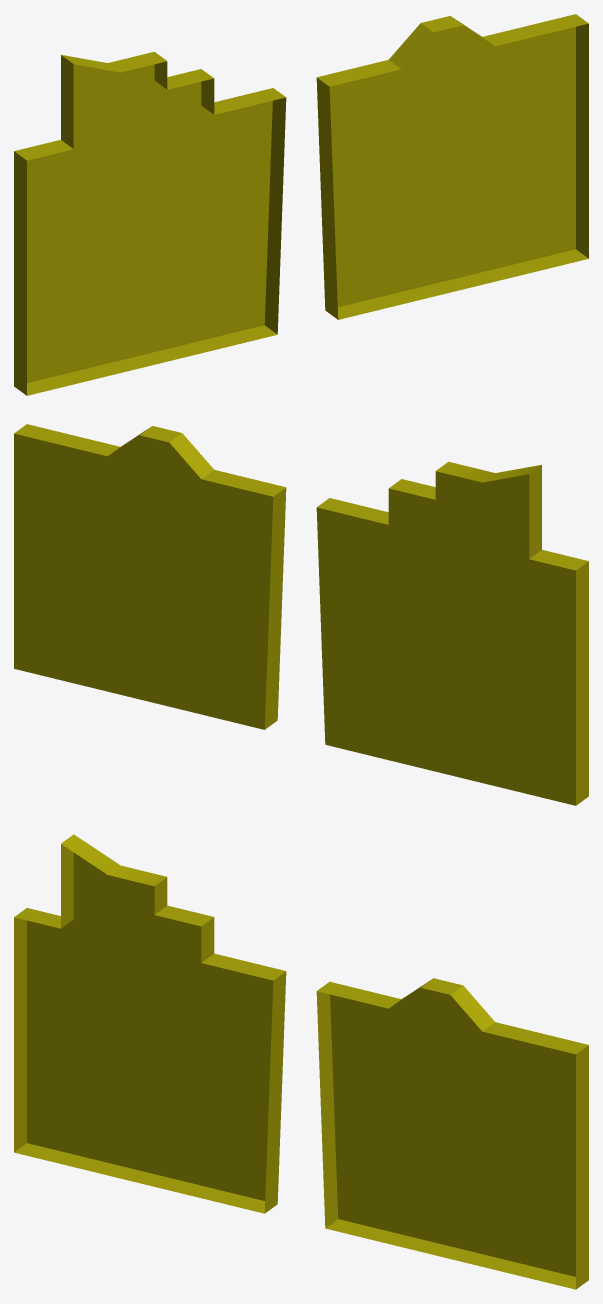
File: lollipop forest low res.fbx
3 renders of one model, top to bottom at view 1: azimuth 30°, elevation 25°; view 2: azimuth 150°, elevation 25°; view 3: azimuth 330°, elevation 25°, orthographic.
Parts seen in each view (by area): view 1: lollipop_Forest_terrain; view 2: lollipop_Forest_terrain; view 3: lollipop_Forest_terrain.
Part boxes in pixels (box(x1,y1,x2,y2)): lollipop_Forest_terrain: box(14, 14, 588, 395); lollipop_Forest_terrain: box(14, 424, 588, 805); lollipop_Forest_terrain: box(14, 834, 588, 1289).
Size of the model in its own units: 25 by 13.61 by 1.
